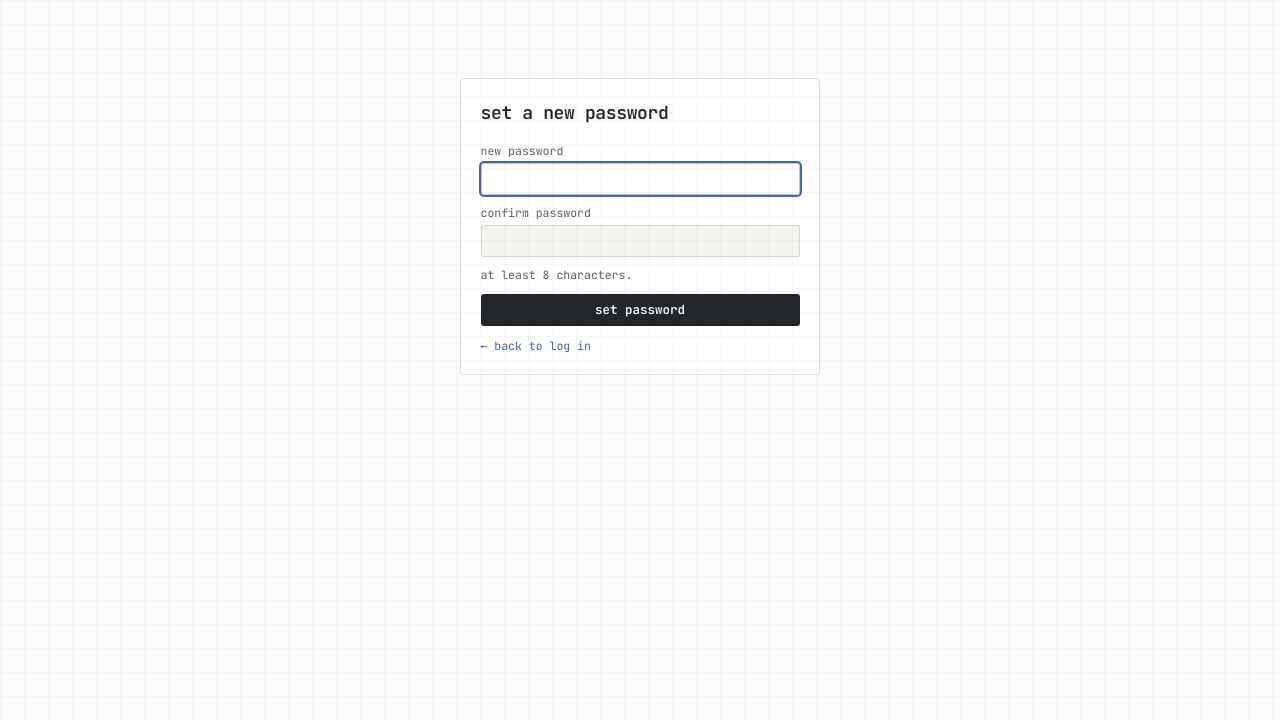
it: ResetPasswordPage › rejects a mismatched confirmation
Type "hunter2hunter2" into the password field labelled "new password" at (640, 179), box [480,163,800,195]
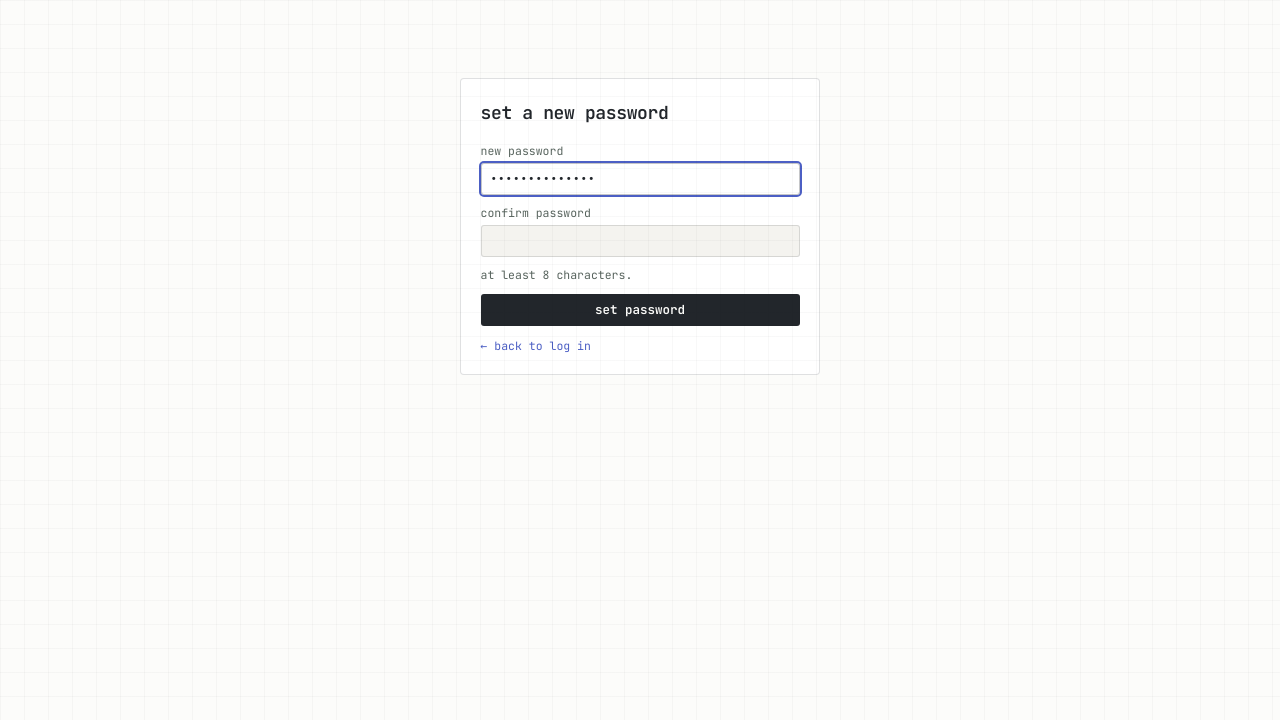
Type "hunter2hunter3" into the password field labelled "confirm password" at (640, 241), box [480,225,800,257]
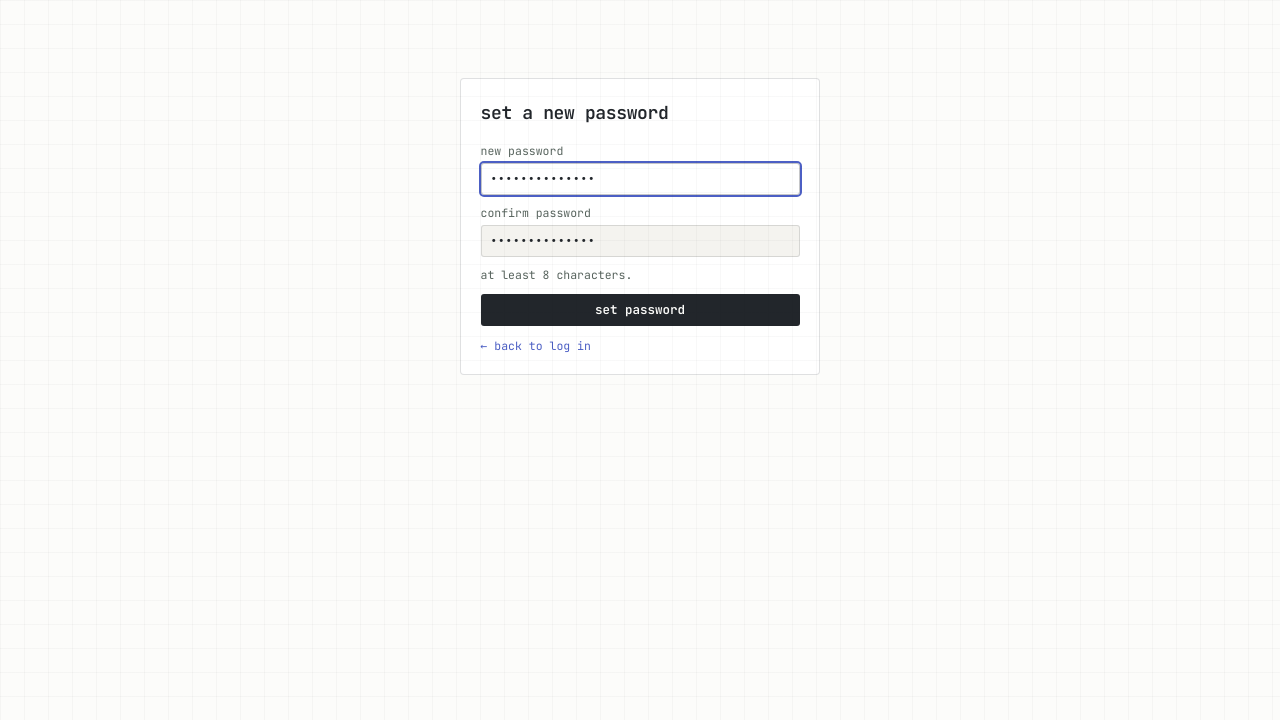
Click the button "set password" at (640, 310), box [480,294,800,326]
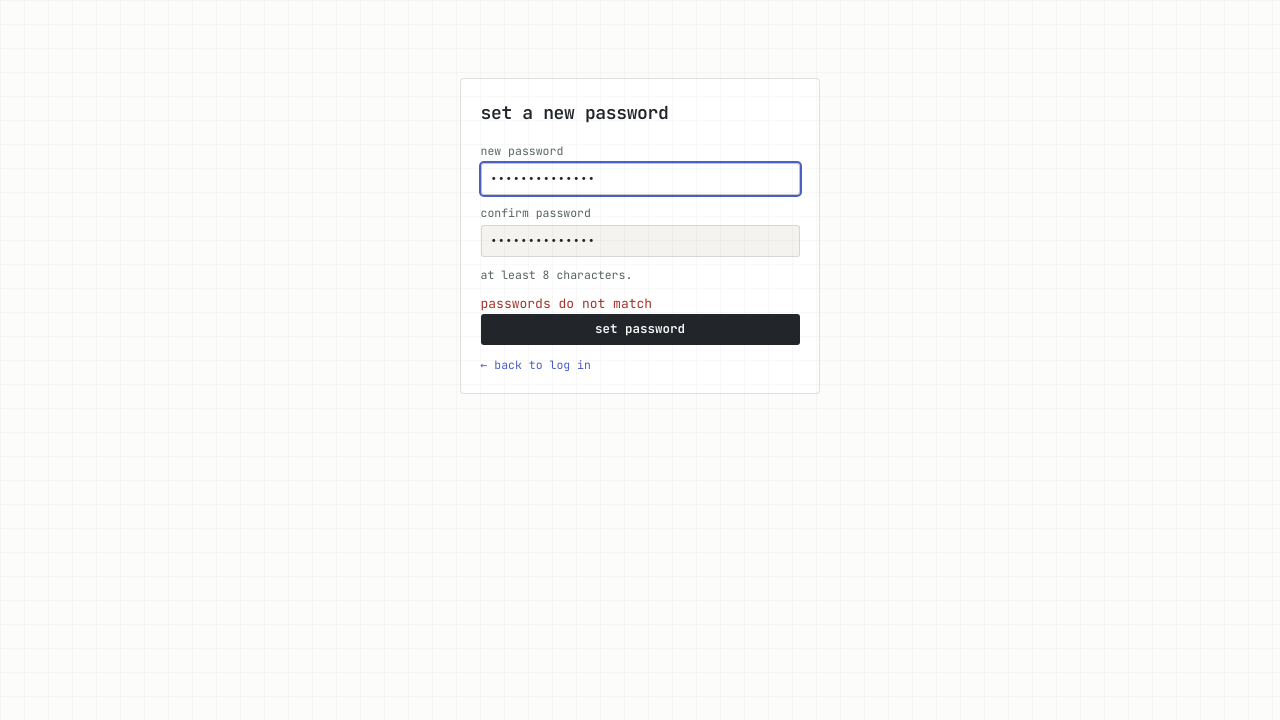
Expected: the message reads "passwords do not match", [480,295,652,312]
